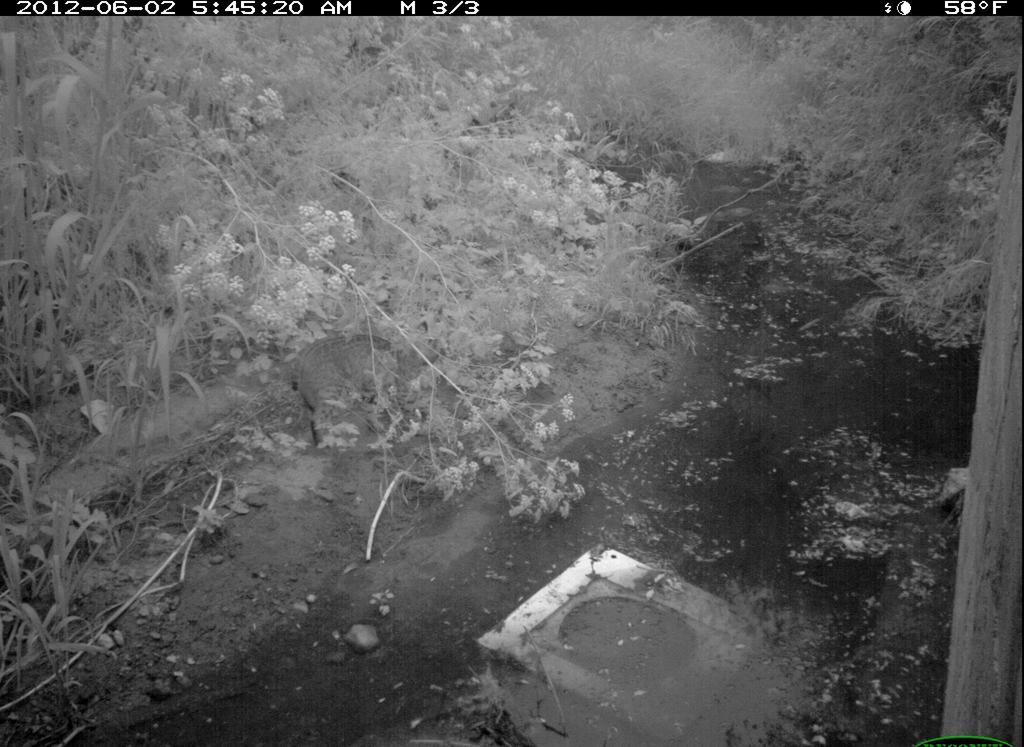bobcat: (268, 323, 405, 459)
